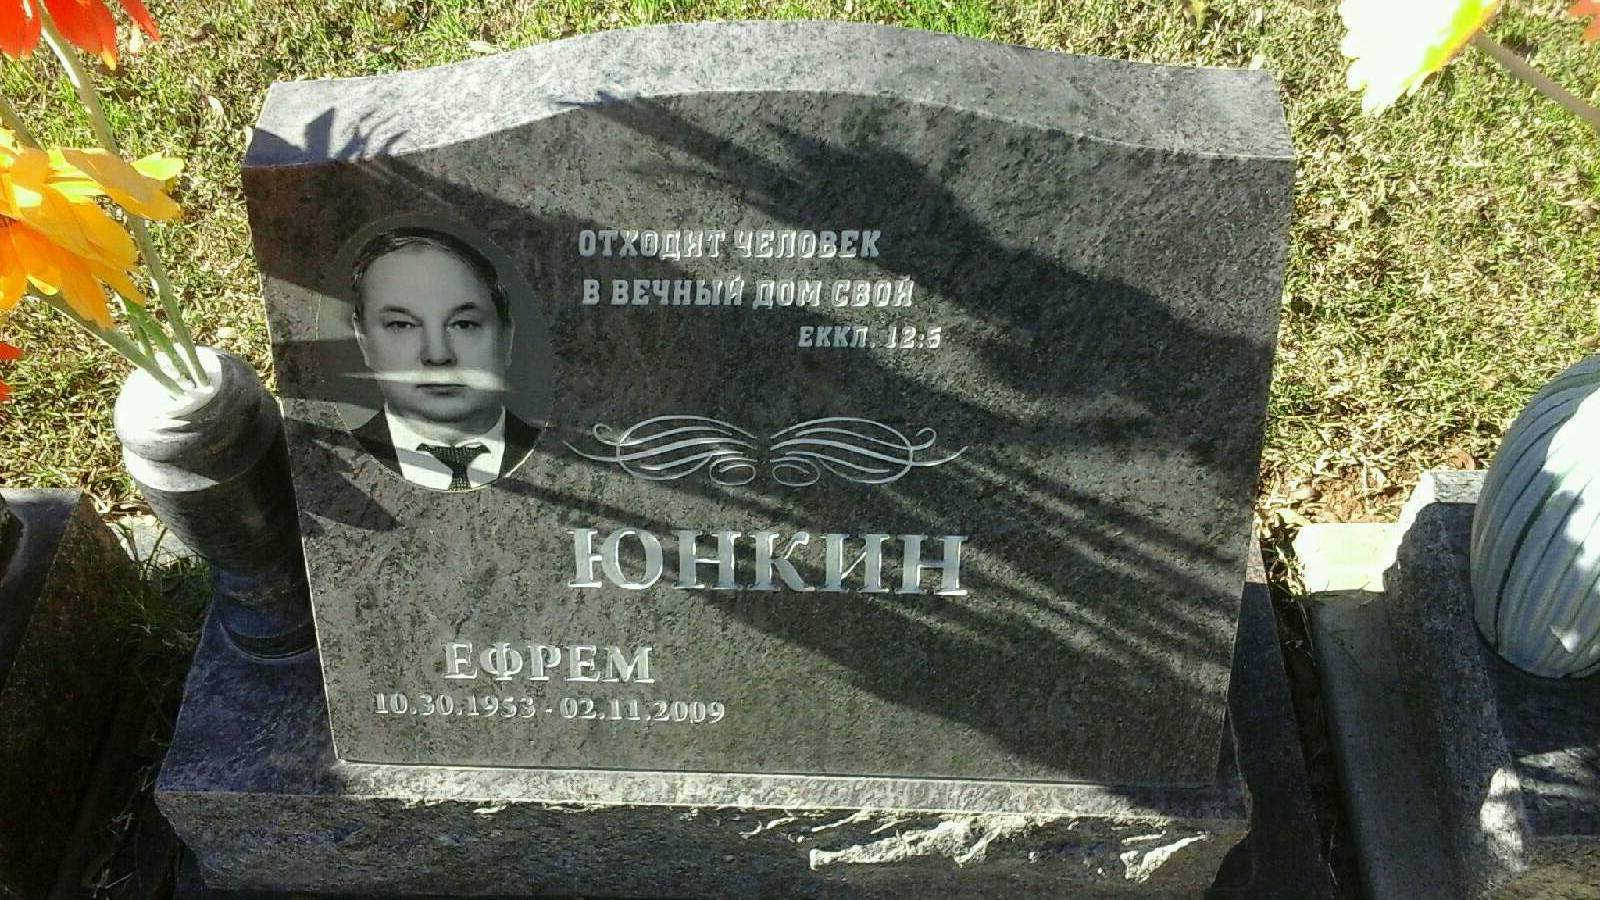upright: (152, 21, 1298, 900)
